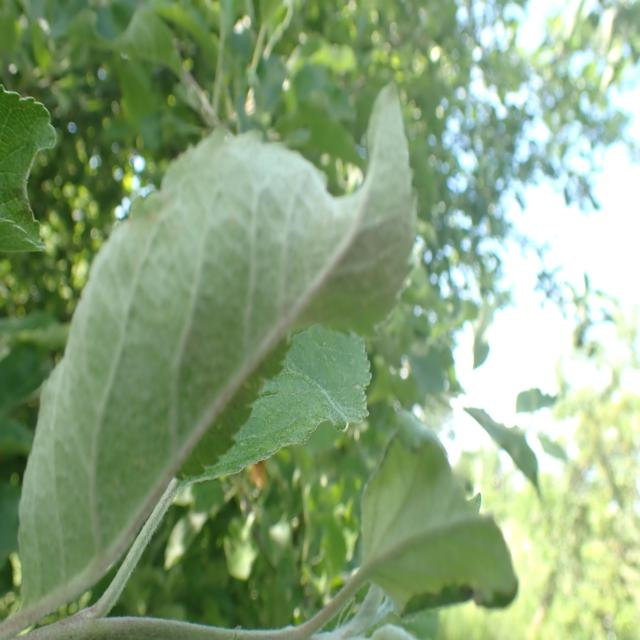Powdery_mildew: (16, 82, 424, 603)
